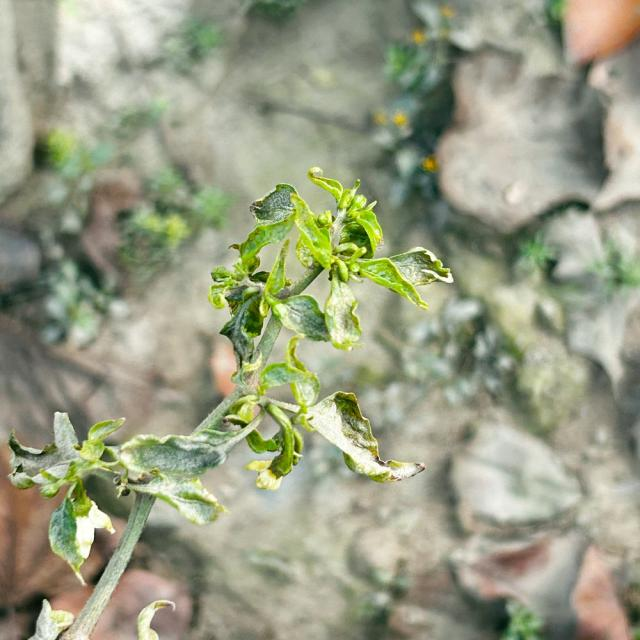Chilli_Leaf_Curl: (6, 165, 454, 636), (208, 165, 454, 351), (302, 390, 426, 484), (136, 598, 176, 639)
